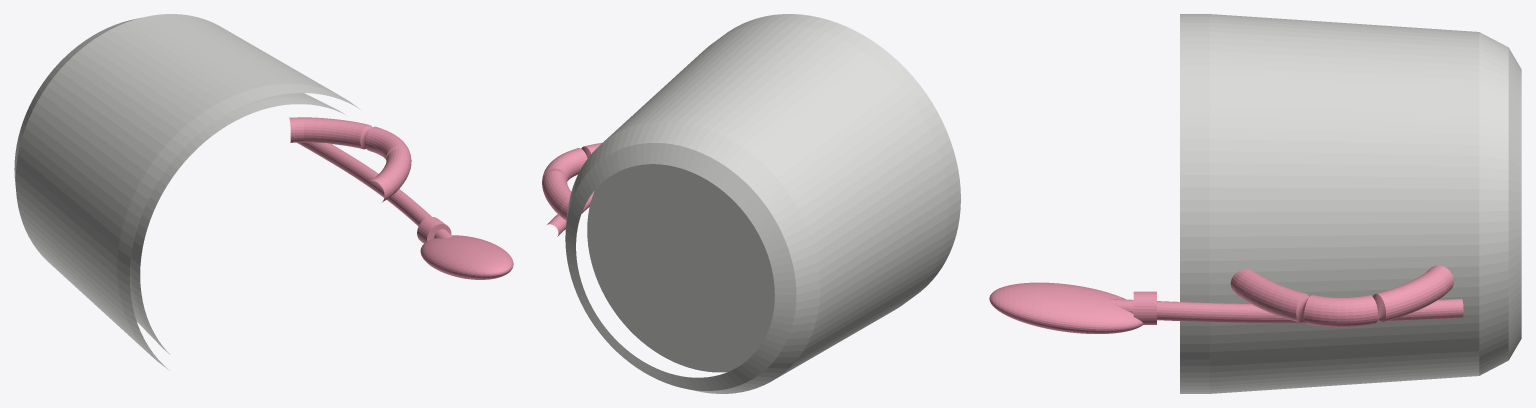
File: caneca_alca_colorida_colher.glb
The picture shows the model from 3 angles, left to right: view 1: azimuth 30°, elevation 25°; view 2: azimuth 150°, elevation 25°; view 3: azimuth 270°, elevation 25°; orthographic projection. The views are drawn at different scales.
Visible parts, largest first — view 1: Cup, Pink_Handle, Spoon_Bowl, Spoon_Shaft, Spoon_Collar; view 2: Cup, Pink_Handle; view 3: Cup, Pink_Handle, Spoon_Bowl, Spoon_Shaft, Spoon_Collar.
Boxes of the visible parts, box(x1,y1,x2,y2) form: Cup: box(14, 14, 360, 370); Pink_Handle: box(289, 117, 411, 202); Spoon_Bowl: box(420, 235, 513, 279); Spoon_Shaft: box(297, 142, 452, 238); Spoon_Collar: box(417, 217, 451, 243); Cup: box(565, 14, 960, 393); Pink_Handle: box(542, 142, 602, 220); Cup: box(1180, 14, 1521, 393); Pink_Handle: box(1230, 265, 1453, 327); Spoon_Bowl: box(989, 282, 1143, 333); Spoon_Shaft: box(1109, 298, 1463, 323); Spoon_Collar: box(1133, 291, 1156, 324).
Bounding box in the file's own units: 3.59 × 2.96 × 4.14.
